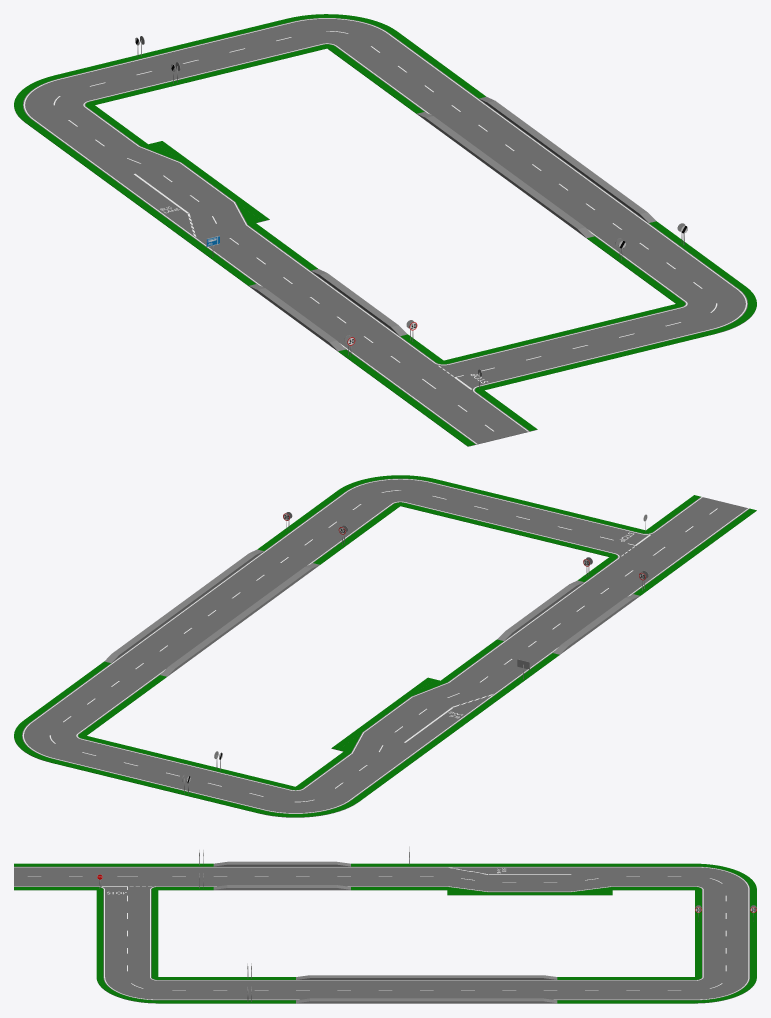
The model's file is test_environment.dae.
The picture shows the model from 3 angles, top to bottom: view 1: azimuth 30°, elevation 25°; view 2: azimuth 150°, elevation 25°; view 3: azimuth 270°, elevation 25°; orthographic projection. The views are drawn at different scales.
Parts seen in each view (by area): view 1: Plane.037; view 2: Plane.037; view 3: Plane.037.
Part boxes in pixels (<box>): Plane.037: <box>14,14,756,446</box>; Plane.037: <box>14,475,756,817</box>; Plane.037: <box>14,846,756,1003</box>.
Size of the model in its own units: 48.57 by 108 by 2.55.
185 materials, 1 textured.
